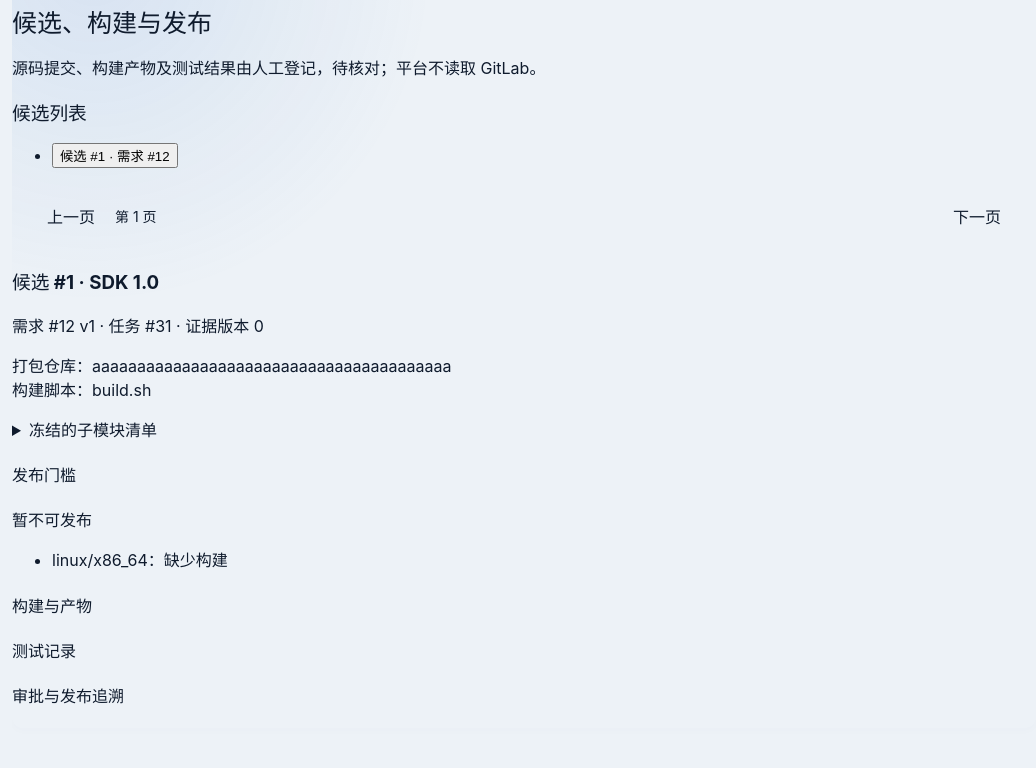
can reach older candidate pages
Click the button "下一页": (977, 216) [942,200,1012,232]
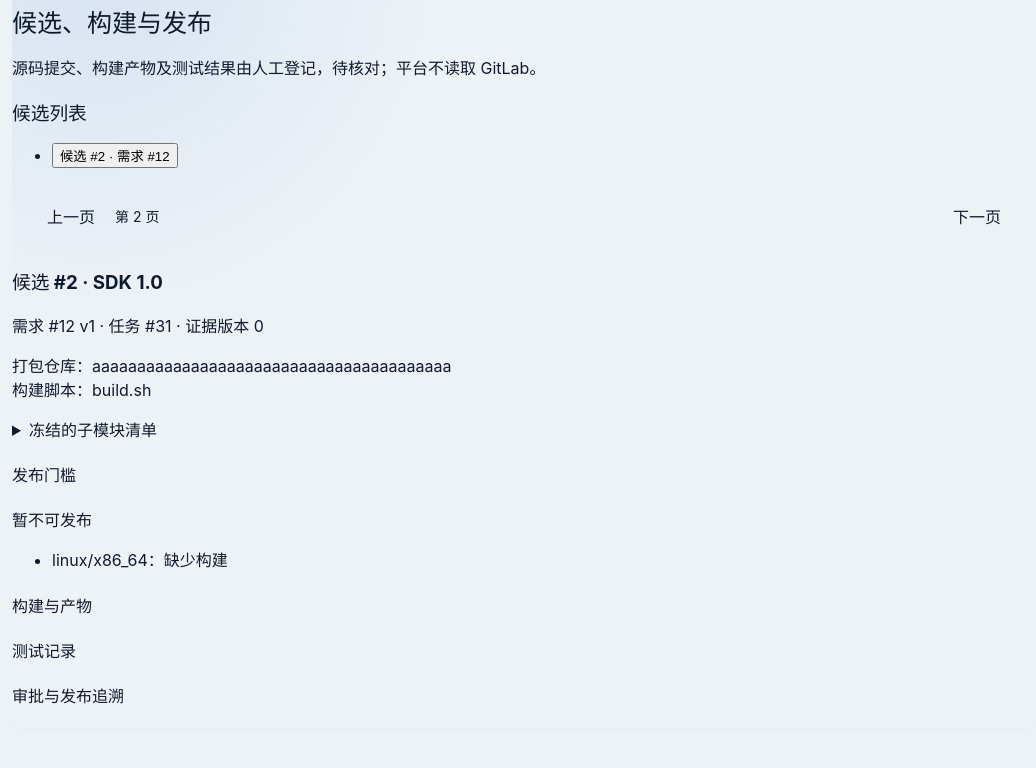
expect the text "候选 #2" is shown: met, box [52,143,178,168]
